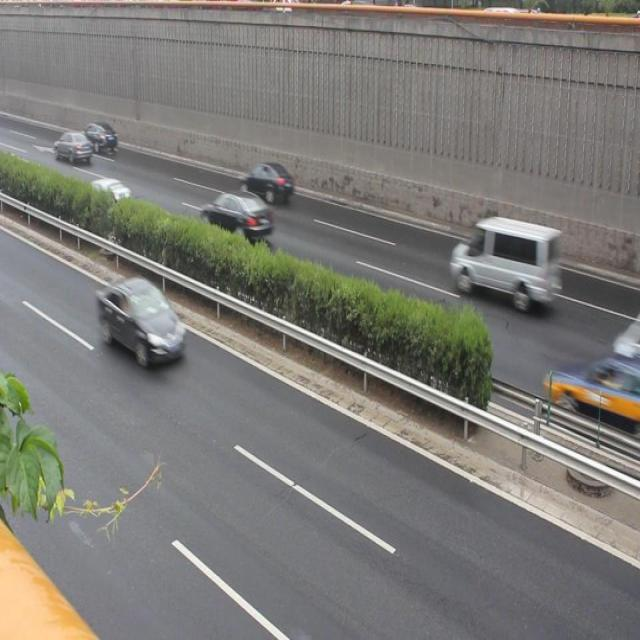car: (94, 275, 185, 367), (542, 353, 640, 436), (199, 184, 270, 247), (234, 161, 296, 209), (86, 172, 134, 214), (80, 114, 119, 151), (55, 131, 94, 164)
truck: (453, 212, 565, 308)
